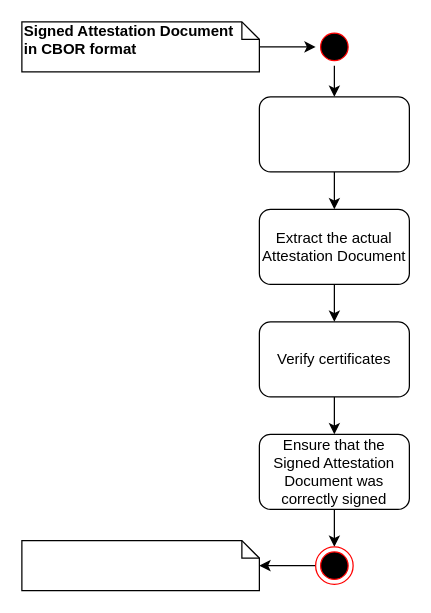
Some shapes in this 431 by 613 pixel diagram are drawn without their labels. Each missing label, with the centre of its shape:
Decode the CBOR object and map it to a COSE_Sign1 structure: the point at 333,134
Return Attestation Document: the point at 140,565
